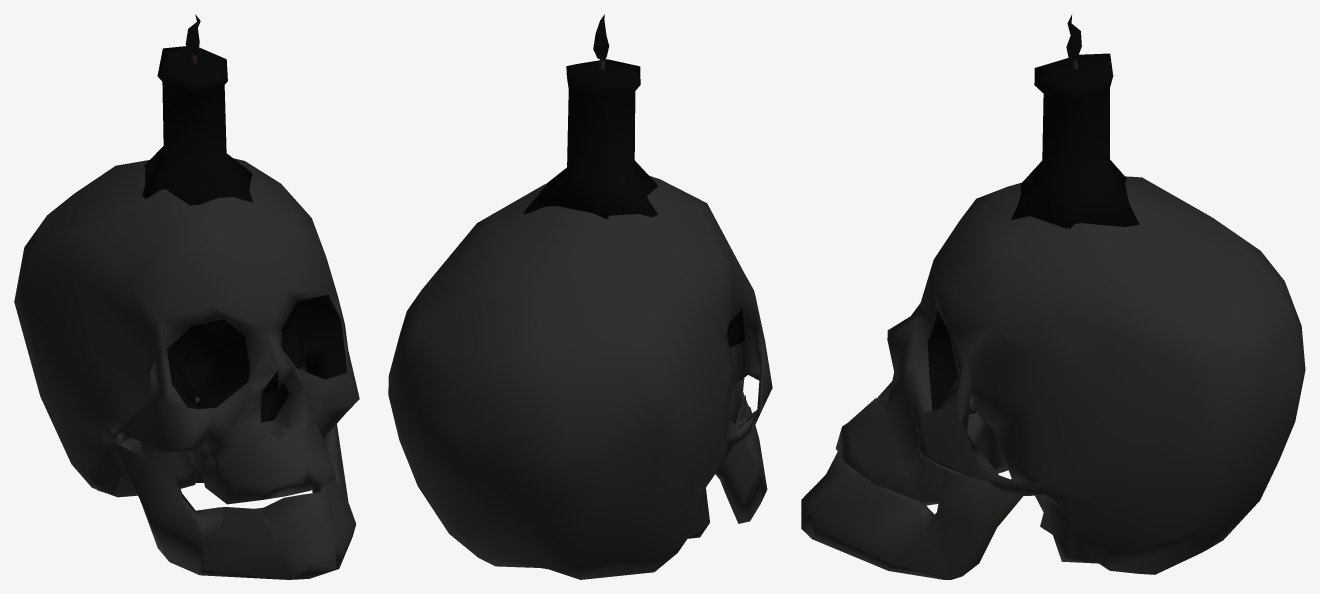
The model's file is CandleSkullShapeB.021.glb.
3 views of the same model, side by side, from view 1: azimuth 30°, elevation 25°; view 2: azimuth 150°, elevation 25°; view 3: azimuth 270°, elevation 25° (orthographic). The views are drawn at different scales.
Parts seen in each view (by area): view 1: CandleSkullShapeB.021; view 2: CandleSkullShapeB.021; view 3: CandleSkullShapeB.021.
Boxes of the visible parts, box(x1,y1,x2,y2) form: CandleSkullShapeB.021: box(14, 14, 359, 579); CandleSkullShapeB.021: box(388, 14, 772, 579); CandleSkullShapeB.021: box(801, 14, 1305, 579).
Size of the model in its own units: 0.2005 by 0.3649 by 0.3132.
Materials: 2 (2 with a texture image).
